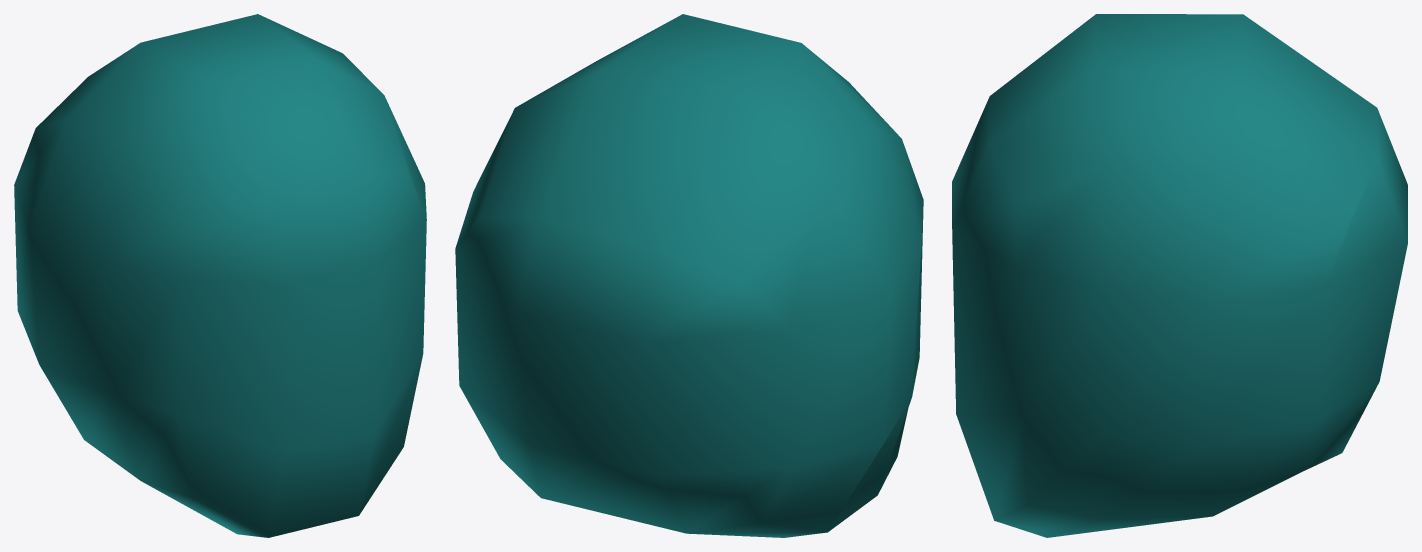
The model's file is boxing_helmet_collider.fbx.
3 views of the same model, side by side, from view 1: azimuth 30°, elevation 25°; view 2: azimuth 150°, elevation 25°; view 3: azimuth 270°, elevation 25° (orthographic). The views are drawn at different scales.
Visible parts, largest first — view 1: boxing_helmet_collider; view 2: boxing_helmet_collider; view 3: boxing_helmet_collider.
Part boxes in pixels (box(x1,y1,x2,y2)): boxing_helmet_collider: box(14, 14, 426, 537); boxing_helmet_collider: box(455, 14, 923, 537); boxing_helmet_collider: box(952, 14, 1407, 537).
Size of the model in its own units: 28.36 by 31.73 by 27.97.
